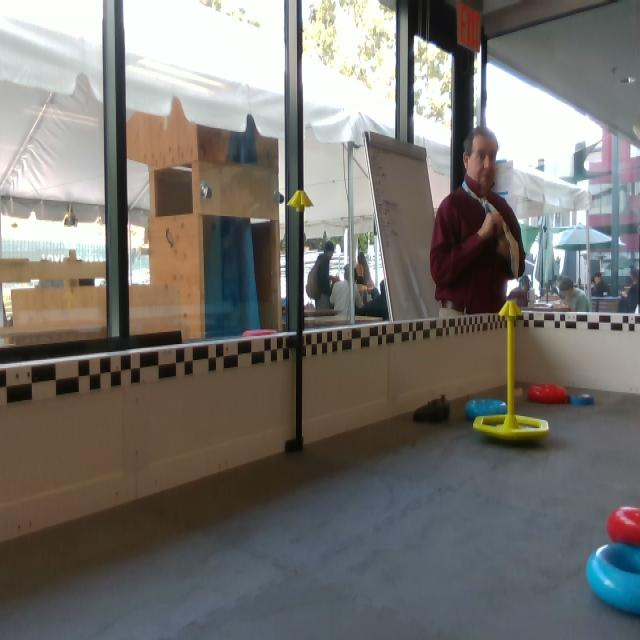Blue-Ring: (586, 544, 639, 617), (465, 399, 508, 420), (568, 391, 599, 408)
Mobile-Goal: (472, 300, 549, 443)
Red-Ring: (608, 507, 639, 545), (527, 385, 564, 403)
Yellow-Stake-Head: (288, 190, 314, 208), (498, 301, 524, 319)
